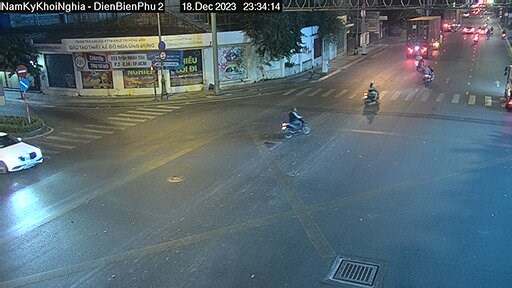car: (1, 121, 43, 182)
motorbike: (278, 107, 311, 142), (363, 78, 384, 111), (423, 63, 438, 88)
truck: (404, 10, 446, 56)
